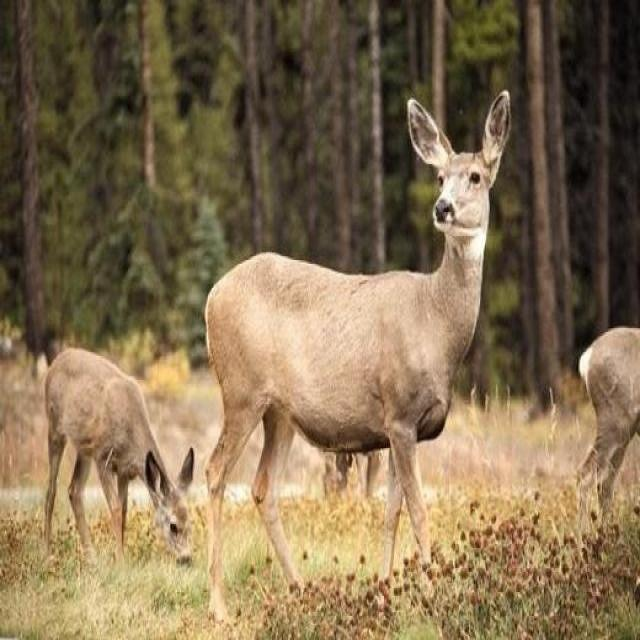deer: (206, 81, 501, 627), (32, 340, 195, 623), (567, 306, 640, 545)
